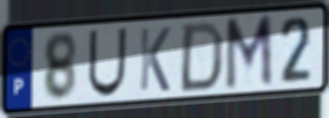2: (278, 15, 313, 85)
8: (41, 29, 79, 103)
D: (176, 19, 227, 95)
K: (137, 25, 173, 94)
M: (223, 12, 275, 95)
U: (86, 26, 130, 100)
